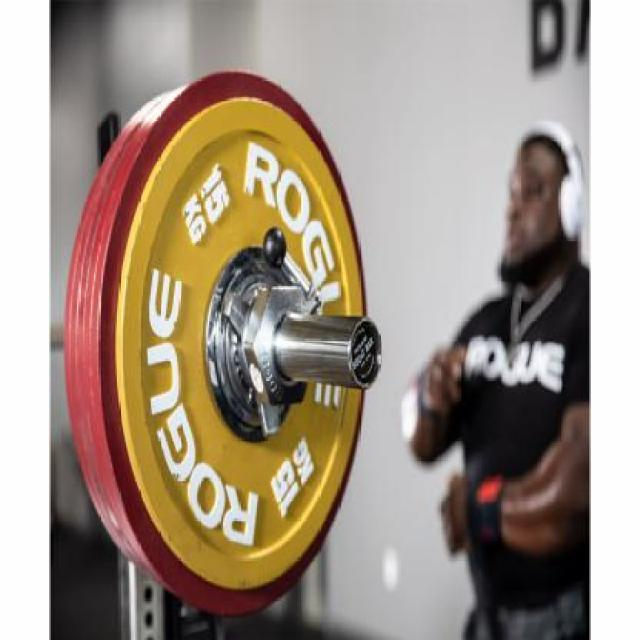barbell: (61, 62, 387, 625)
